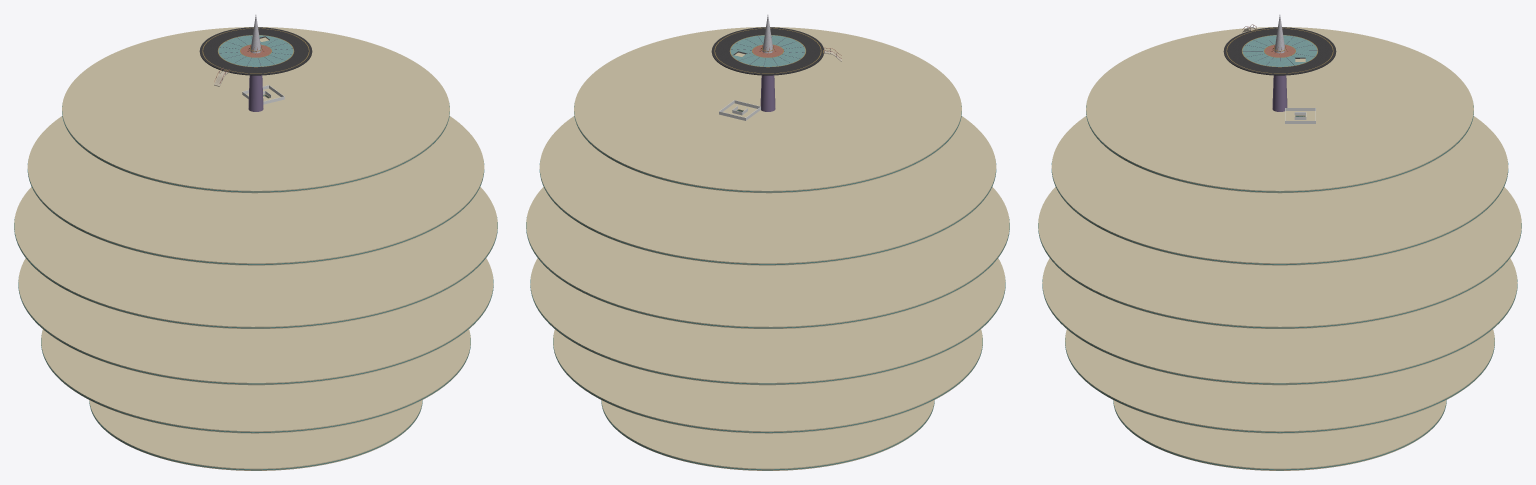
The model's file is ship.glb.
The picture shows the model from 3 angles, left to right: view 1: azimuth 30°, elevation 25°; view 2: azimuth 150°, elevation 25°; view 3: azimuth 270°, elevation 25°; orthographic projection.
Visible parts, largest first — view 1: Deck 01 top 57m, Deck 02 top 32m, Deck 03 top 7m, Deck 04 top -18m, Deck 05 top -43m, Deck 06 top -68m, bridge_floor_top82, deck_floor_fill, Deck 04 edge, Deck 03 edge, Deck 02 edge, Deck 05 edge (+2 smaller); view 2: Deck 01 top 57m, Deck 02 top 32m, Deck 03 top 7m, Deck 04 top -18m, Deck 05 top -43m, Deck 06 top -68m, bridge_floor_top82, deck_floor_fill, Deck 04 edge, Deck 03 edge, Deck 02 edge, Deck 05 edge (+2 smaller); view 3: Deck 01 top 57m, Deck 02 top 32m, Deck 03 top 7m, Deck 04 top -18m, Deck 05 top -43m, Deck 06 top -68m, bridge_floor_top82, deck_floor_fill, Deck 03 edge, Deck 04 edge, Deck 02 edge, Deck 05 edge (+2 smaller).
Part boxes in pixels (left/top/right/bottom): Deck 01 top 57m: left=62, top=27, right=449, bottom=193; Deck 02 top 32m: left=27, top=96, right=484, bottom=265; Deck 03 top 7m: left=14, top=187, right=497, bottom=328; Deck 04 top -18m: left=18, top=258, right=493, bottom=385; Deck 05 top -43m: left=41, top=329, right=470, bottom=433; Deck 06 top -68m: left=89, top=400, right=422, bottom=470; bridge_floor_top82: left=203, top=28, right=308, bottom=73; deck_floor_fill: left=199, top=27, right=312, bottom=74; Deck 04 edge: left=18, top=279, right=493, bottom=384; Deck 03 edge: left=14, top=217, right=497, bottom=328; Deck 02 edge: left=27, top=163, right=484, bottom=264; Deck 05 edge: left=41, top=335, right=470, bottom=432; Deck 01 top 57m: left=574, top=27, right=961, bottom=193; Deck 02 top 32m: left=539, top=116, right=996, bottom=265; Deck 03 top 7m: left=526, top=187, right=1009, bottom=328; Deck 04 top -18m: left=530, top=258, right=1005, bottom=385; Deck 05 top -43m: left=553, top=329, right=982, bottom=433; Deck 06 top -68m: left=601, top=400, right=934, bottom=470; bridge_floor_top82: left=715, top=28, right=823, bottom=73; deck_floor_fill: left=711, top=27, right=823, bottom=74; Deck 04 edge: left=530, top=279, right=1005, bottom=384; Deck 03 edge: left=526, top=217, right=1009, bottom=328; Deck 02 edge: left=539, top=163, right=996, bottom=264; Deck 05 edge: left=553, top=335, right=982, bottom=432; Deck 01 top 57m: left=1086, top=27, right=1473, bottom=193; Deck 02 top 32m: left=1051, top=116, right=1508, bottom=265; Deck 03 top 7m: left=1038, top=187, right=1521, bottom=328; Deck 04 top -18m: left=1042, top=258, right=1517, bottom=385; Deck 05 top -43m: left=1065, top=329, right=1494, bottom=433; Deck 06 top -68m: left=1113, top=400, right=1446, bottom=470; bridge_floor_top82: left=1227, top=28, right=1332, bottom=73; deck_floor_fill: left=1223, top=27, right=1336, bottom=74; Deck 03 edge: left=1038, top=223, right=1521, bottom=328; Deck 04 edge: left=1042, top=279, right=1517, bottom=384; Deck 02 edge: left=1051, top=163, right=1508, bottom=264; Deck 05 edge: left=1065, top=338, right=1494, bottom=432.
Bounding box in the file's own units: 189 × 178 × 189.
Materials: 11 (7 with a texture image).
